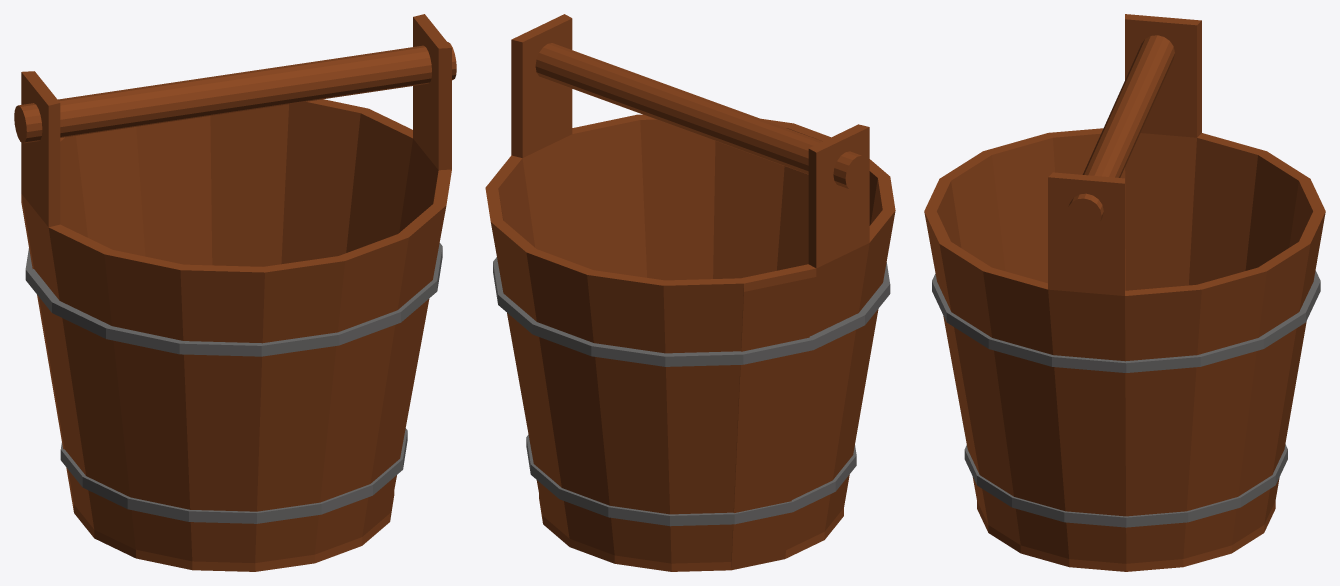
File: Bucket.fbx
The picture shows the model from 3 angles, left to right: view 1: azimuth 30°, elevation 25°; view 2: azimuth 150°, elevation 25°; view 3: azimuth 270°, elevation 25°; orthographic projection. The views are drawn at different scales.
Parts seen in each view (by area): view 1: Bucket; view 2: Bucket; view 3: Bucket.
Boxes of the visible parts, box(x1,y1,x2,y2) form: Bucket: box(14, 14, 456, 571); Bucket: box(485, 14, 895, 571); Bucket: box(924, 14, 1325, 571).
Bounding box in the file's own units: 55.84 × 60.25 × 53.37.
